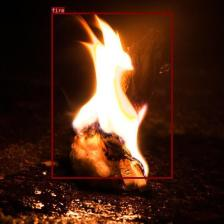fire: (52, 12, 172, 178)
